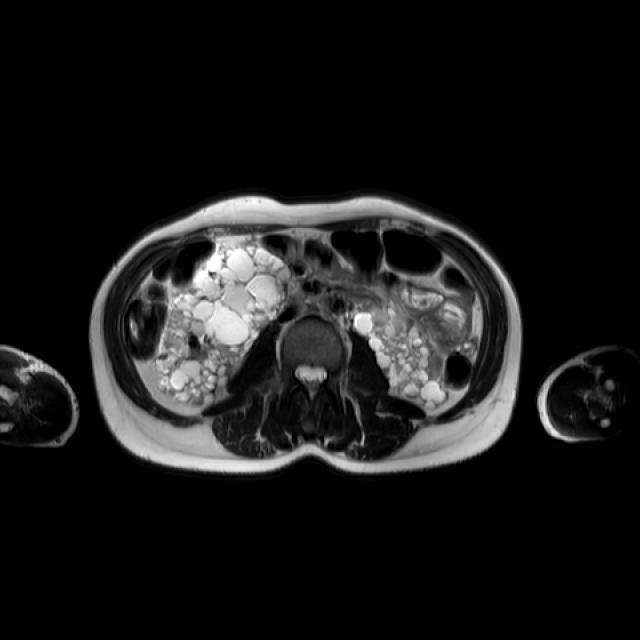sag: (157, 243, 291, 406)
sol: (350, 309, 448, 411)
